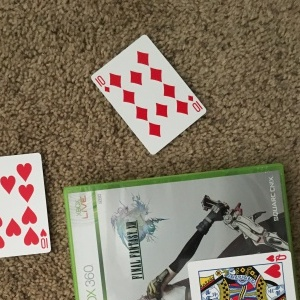card: (92, 34, 207, 155)
